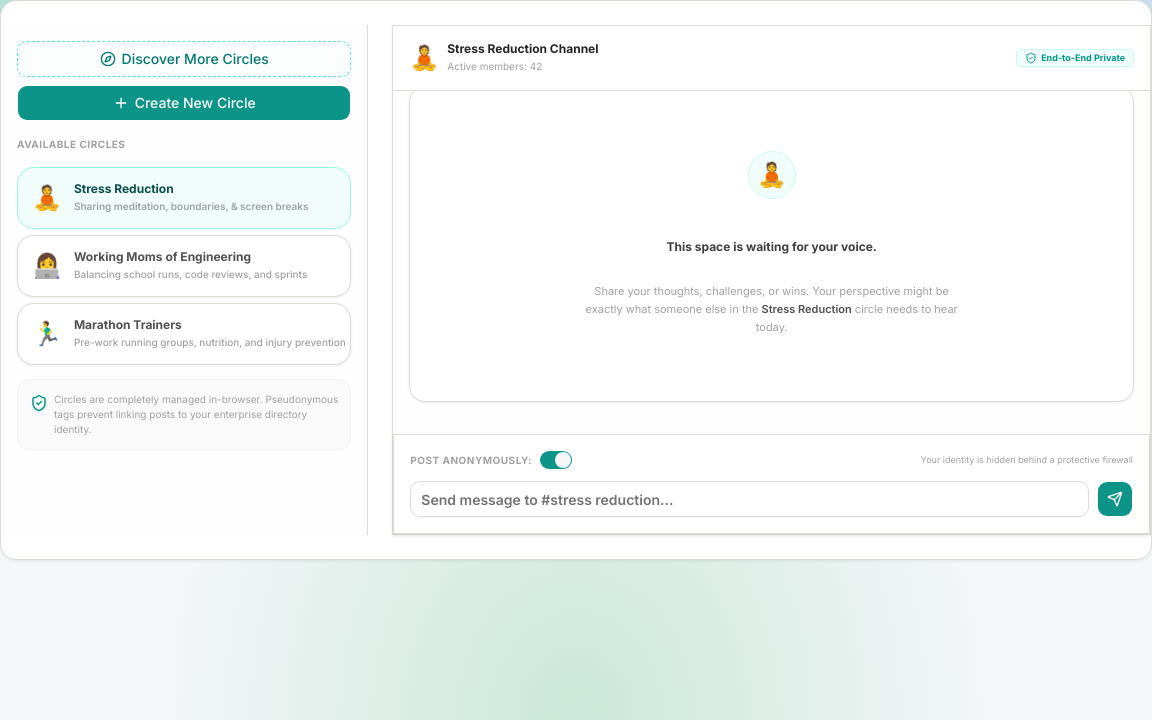
Test: SupportCircles › switching the active circle updates the chat header
(page scrolled)
Check: the heading "Stress Reduction Channel" is shown, box [447,43,598,55]
Click the option "Marathon Trainers" at (184, 334), box [17,303,351,365]
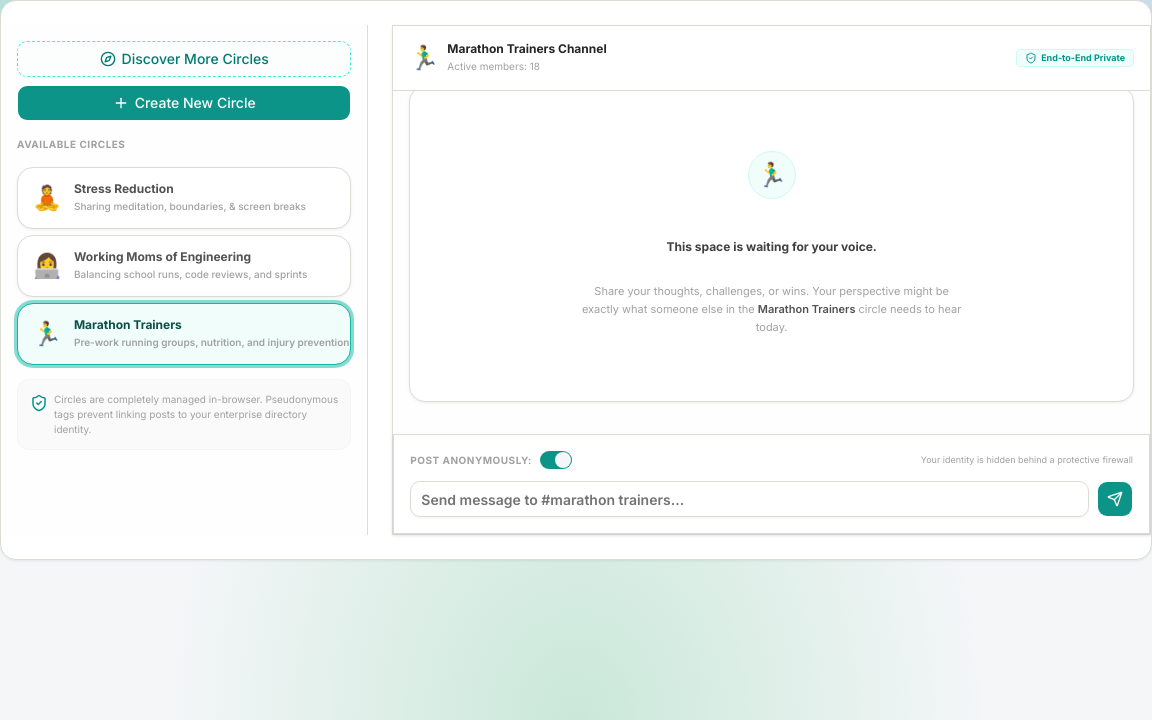
Check: the heading "Marathon Trainers Channel" is shown, box [447,43,607,55]
